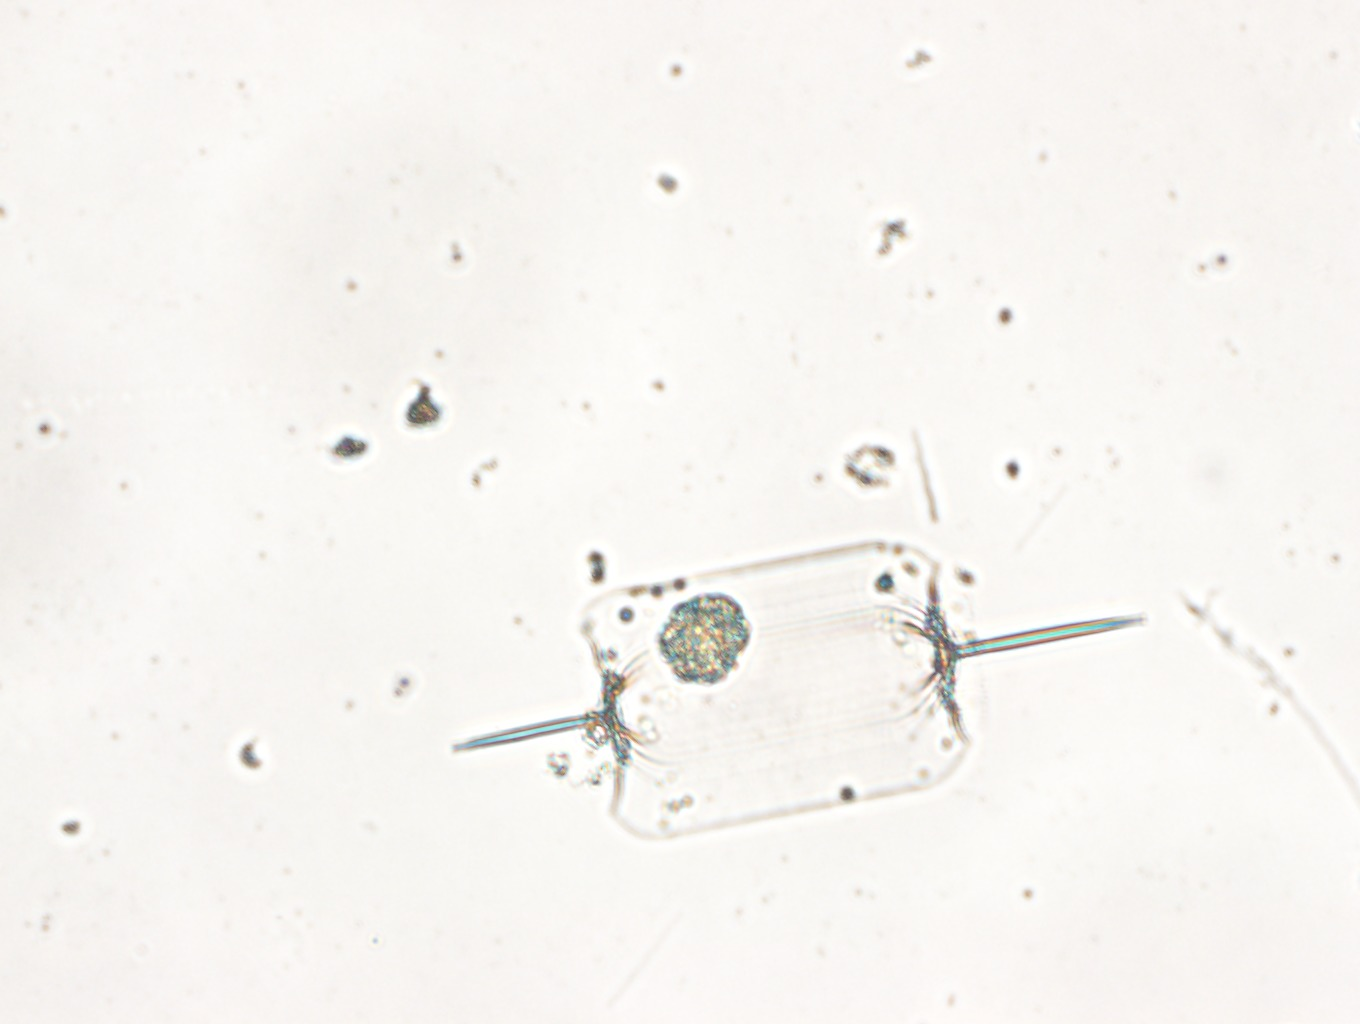ditylum: (440, 535, 1153, 845)
